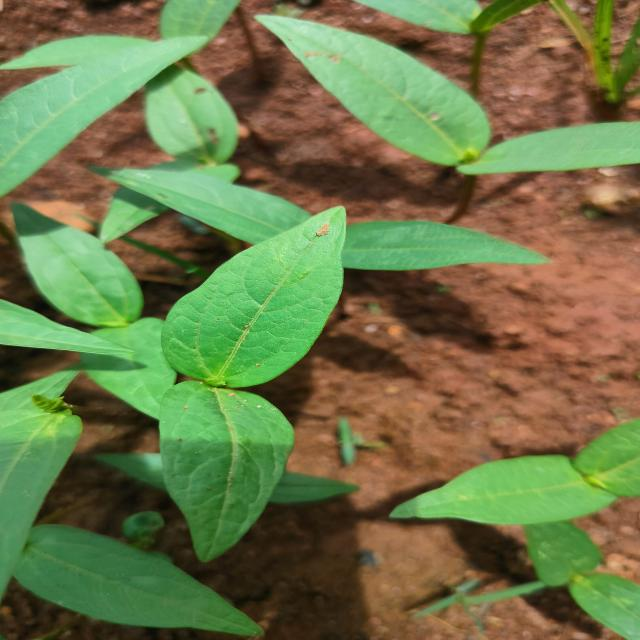Black gram_healthy: (161, 204, 361, 388), (247, 16, 481, 166), (0, 519, 286, 640), (0, 31, 204, 197), (156, 378, 299, 574), (392, 448, 617, 528), (290, 216, 554, 278), (9, 207, 147, 324), (105, 165, 313, 241), (0, 389, 77, 569), (139, 51, 245, 162), (460, 116, 640, 180)
